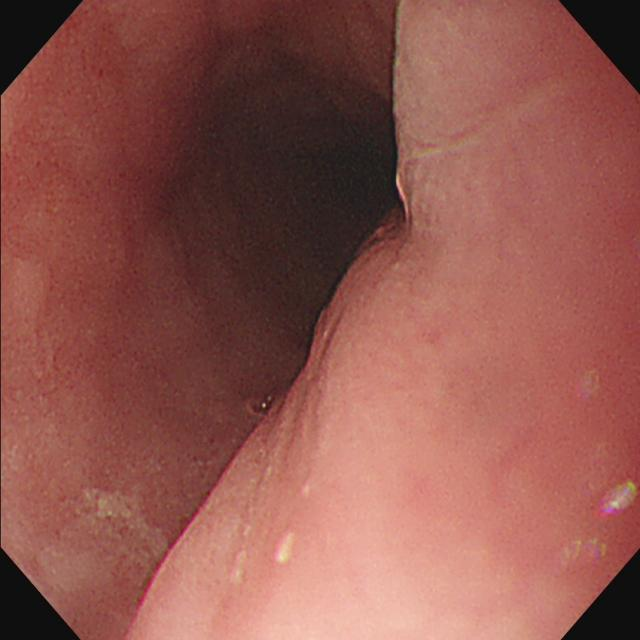E: (150, 27, 404, 379)
